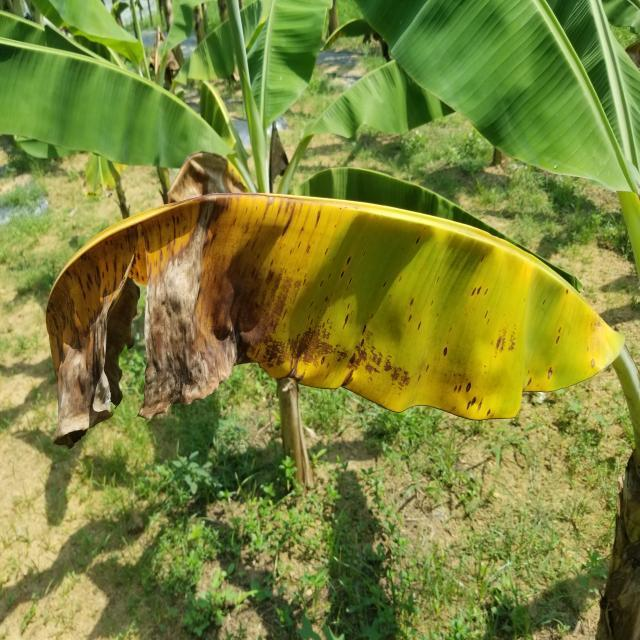Early_rust: (12, 154, 640, 484)
